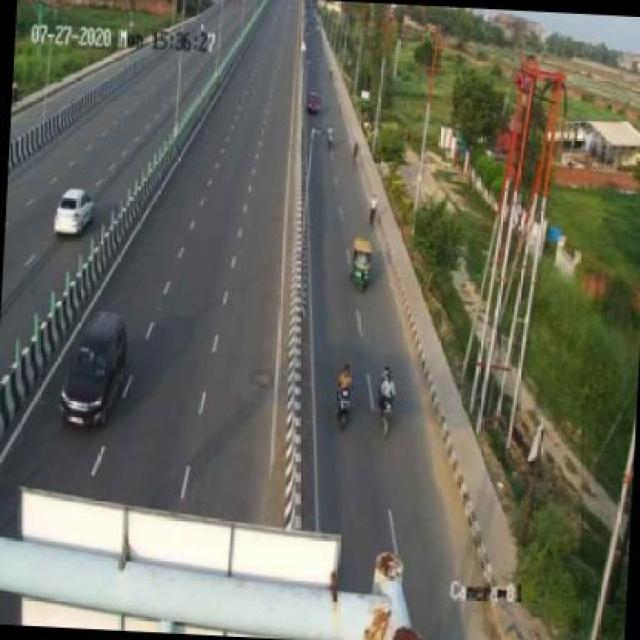car: (55, 306, 134, 439), (52, 181, 98, 237), (306, 89, 325, 117)
